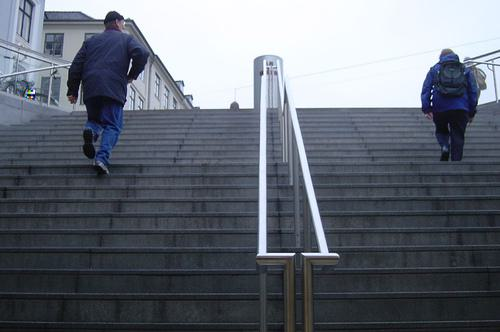car: (5, 82, 58, 106)
person: (65, 10, 150, 177), (419, 48, 480, 161)
